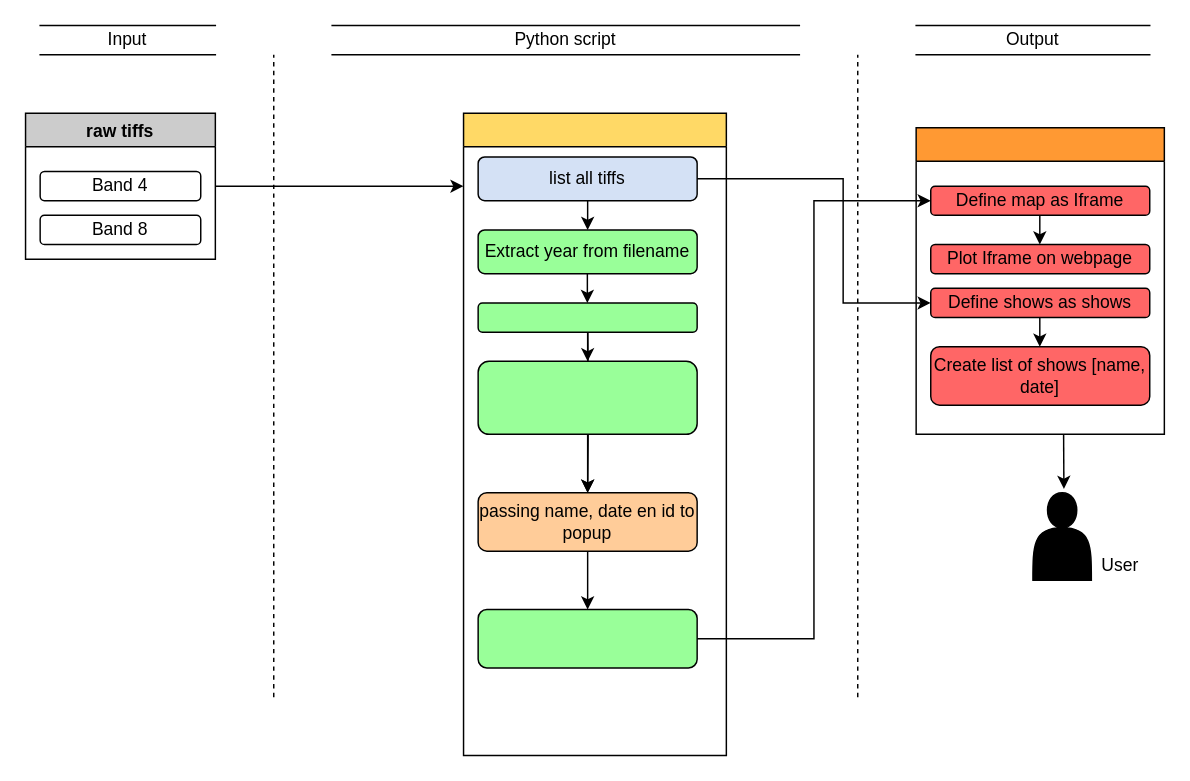
The diagram is 1190 pixels wide and 781 high, and some of its shapes have lost their labels. The box of each missing label's shape, as (x1, y1, x2, y2) in pixels:
Add to markers and map: (477, 608, 697, 668)
ndvi_rasterio.py: (462, 112, 726, 756)
Read band data from tiff: (477, 301, 697, 332)
Store the NIR and RED bands in a dictonary organized by year: (477, 360, 697, 434)
templates/map_bp.html: (915, 126, 1164, 434)
